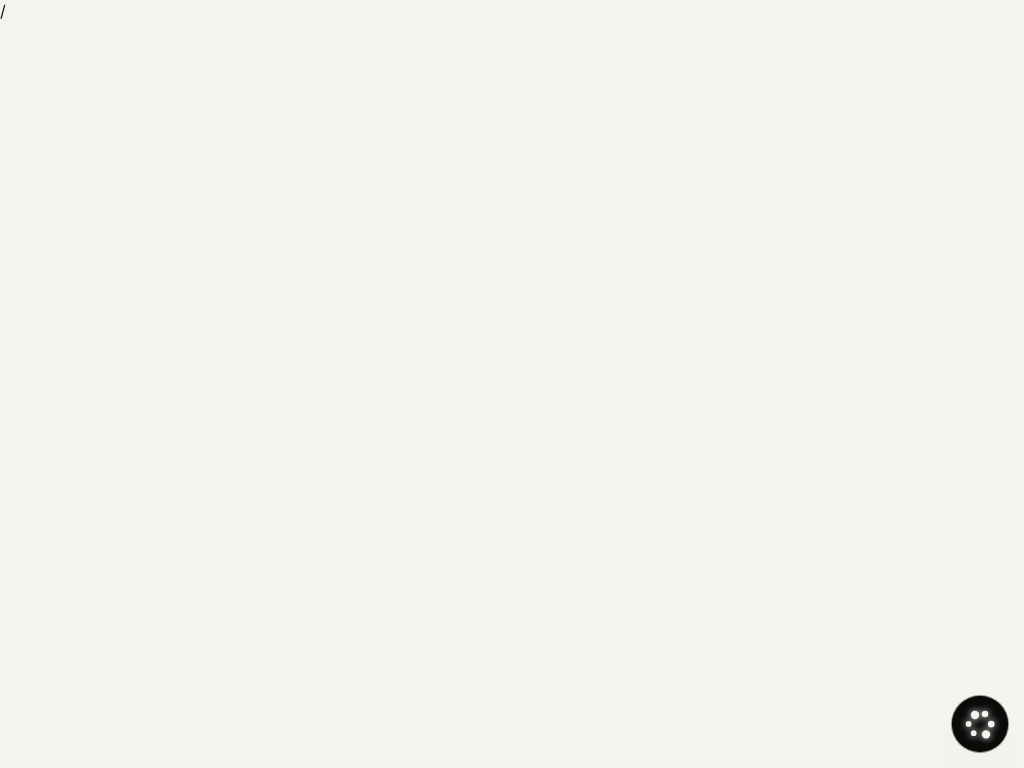
Scenario: Asistente › si falla, muestra el mensaje del servidor
Click the button named "Abrir el asistente".
click(980, 724)  # box [952,696,1008,752]
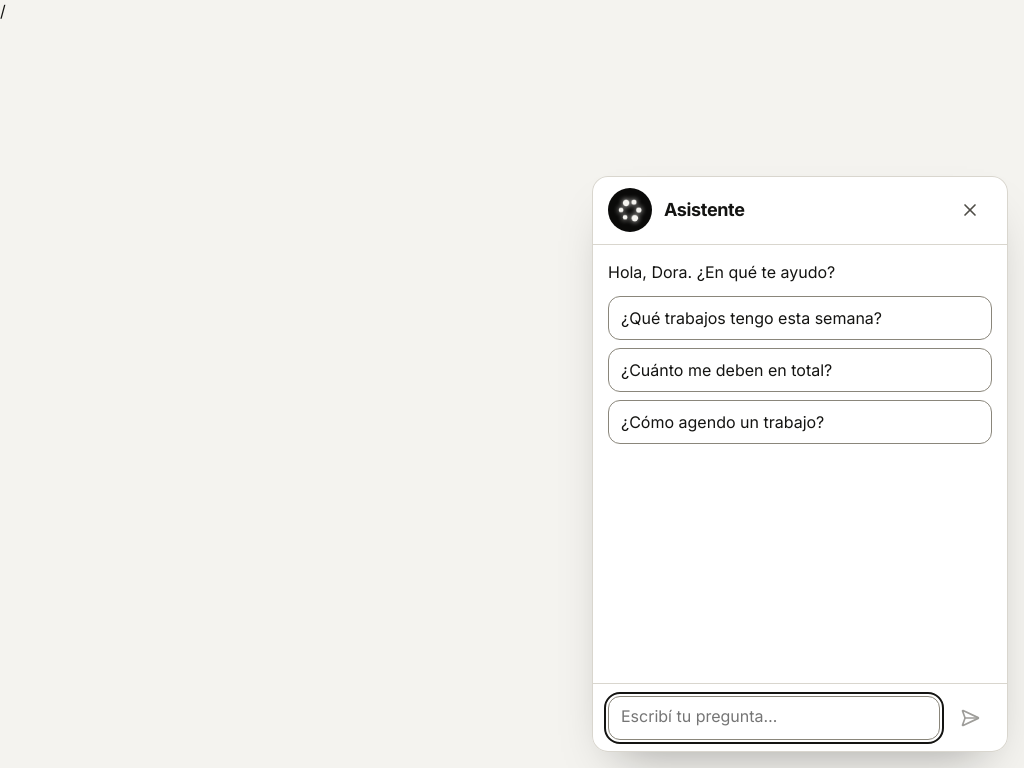
Type "hola" into the text box named "Escribile al asistente".
click(774, 718); type("hola")  # box [608,696,940,740]
Then press Enter
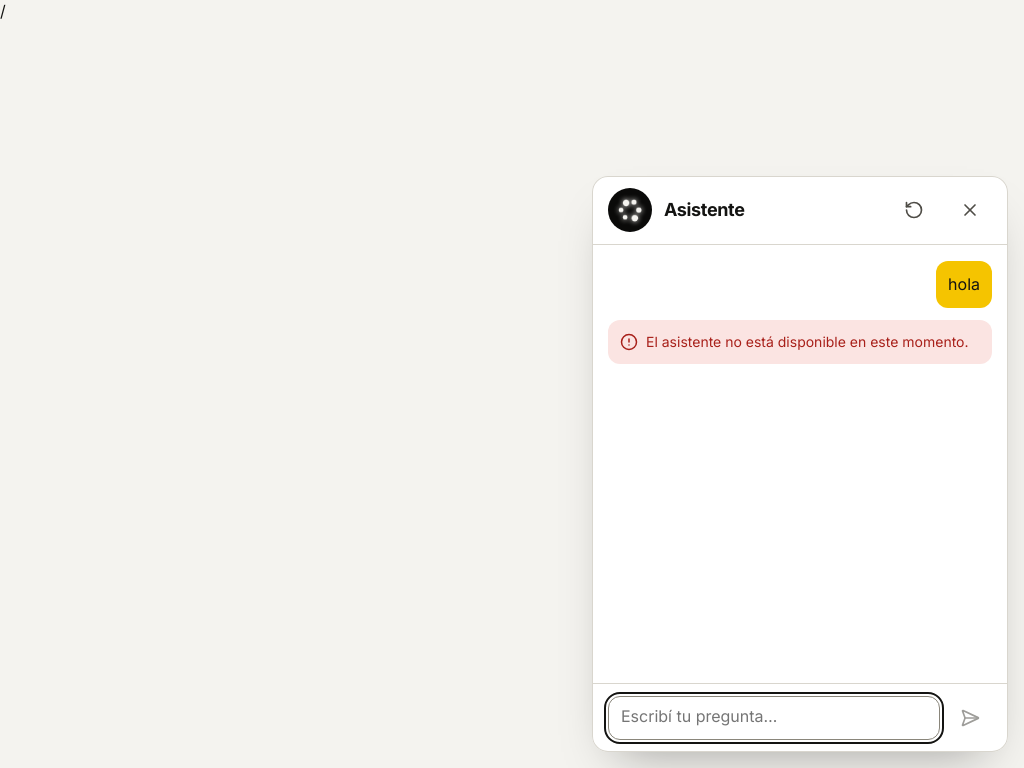
Expected: the message shows "no está disponible", [646,333,968,350]
